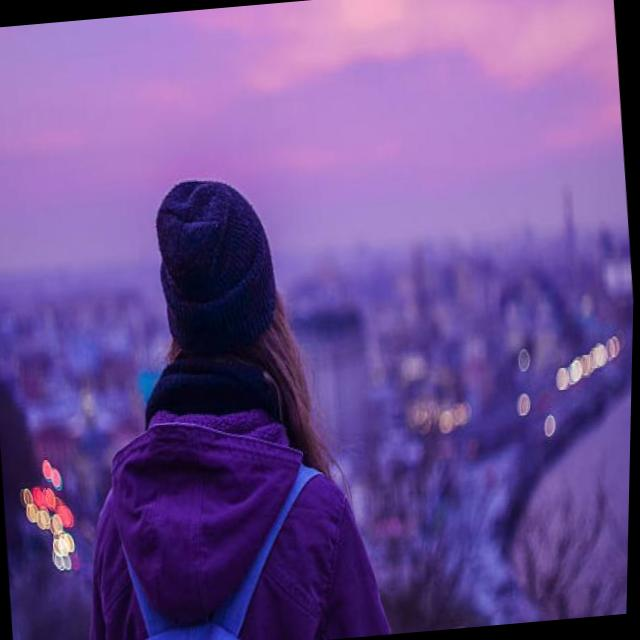no helmet: (99, 150, 328, 444)
